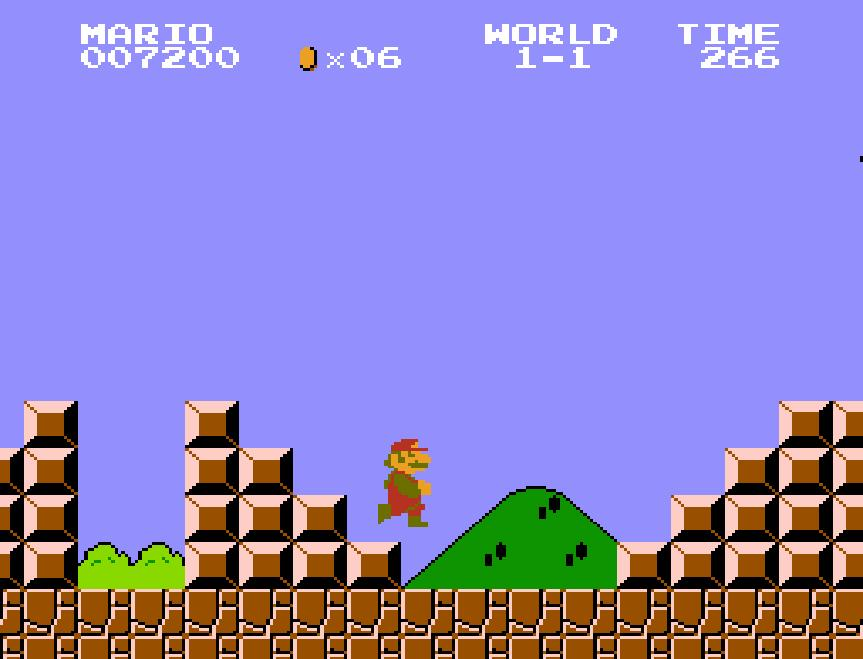big_mario: (376, 431, 434, 529)
